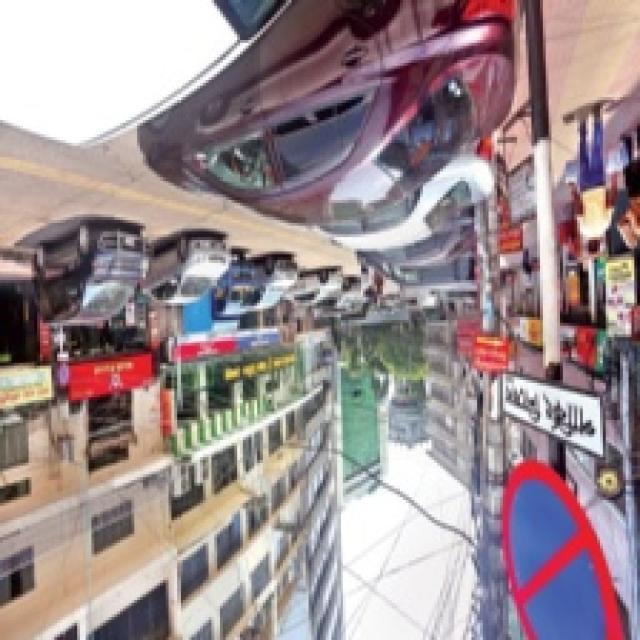car: (183, 38, 530, 255), (31, 233, 151, 330), (151, 234, 235, 316), (243, 253, 298, 322), (288, 263, 339, 311)
